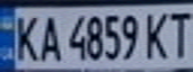4: (63, 11, 87, 61)
5: (103, 11, 124, 61)
8: (84, 11, 106, 62)
9: (118, 11, 142, 61)
A: (36, 11, 63, 62)
K: (9, 11, 42, 63), (142, 8, 172, 61)
T: (163, 7, 193, 60)
